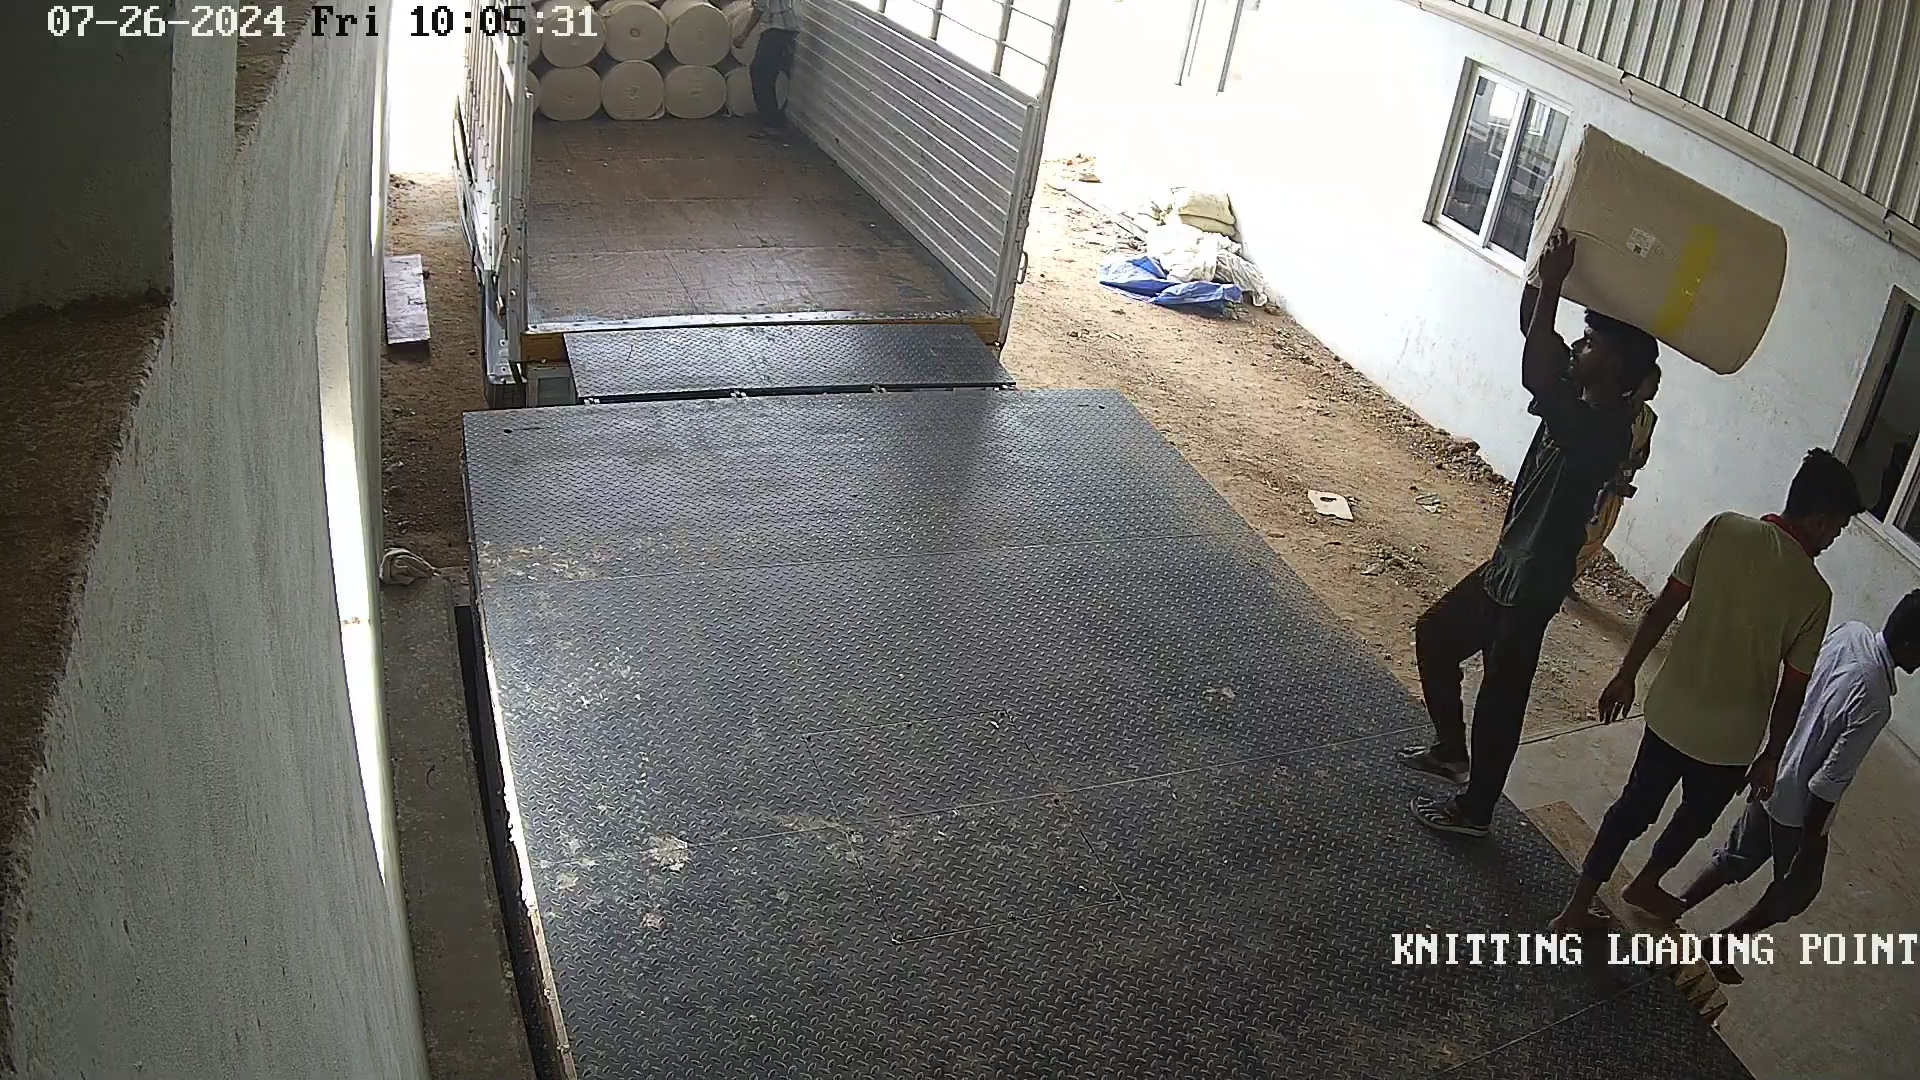bag: (1519, 120, 1795, 378)
